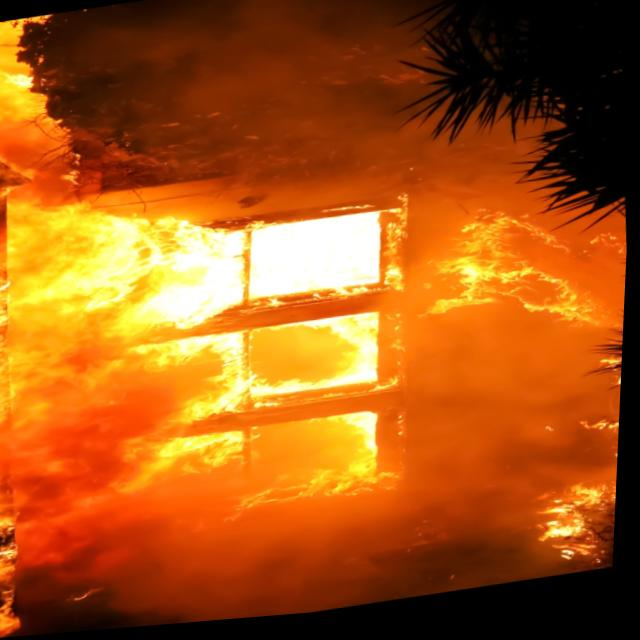Fire: (39, 169, 426, 342), (56, 313, 402, 434), (446, 204, 610, 355), (151, 404, 400, 495), (0, 252, 57, 640), (550, 366, 626, 585), (213, 471, 406, 552), (0, 15, 51, 152)
